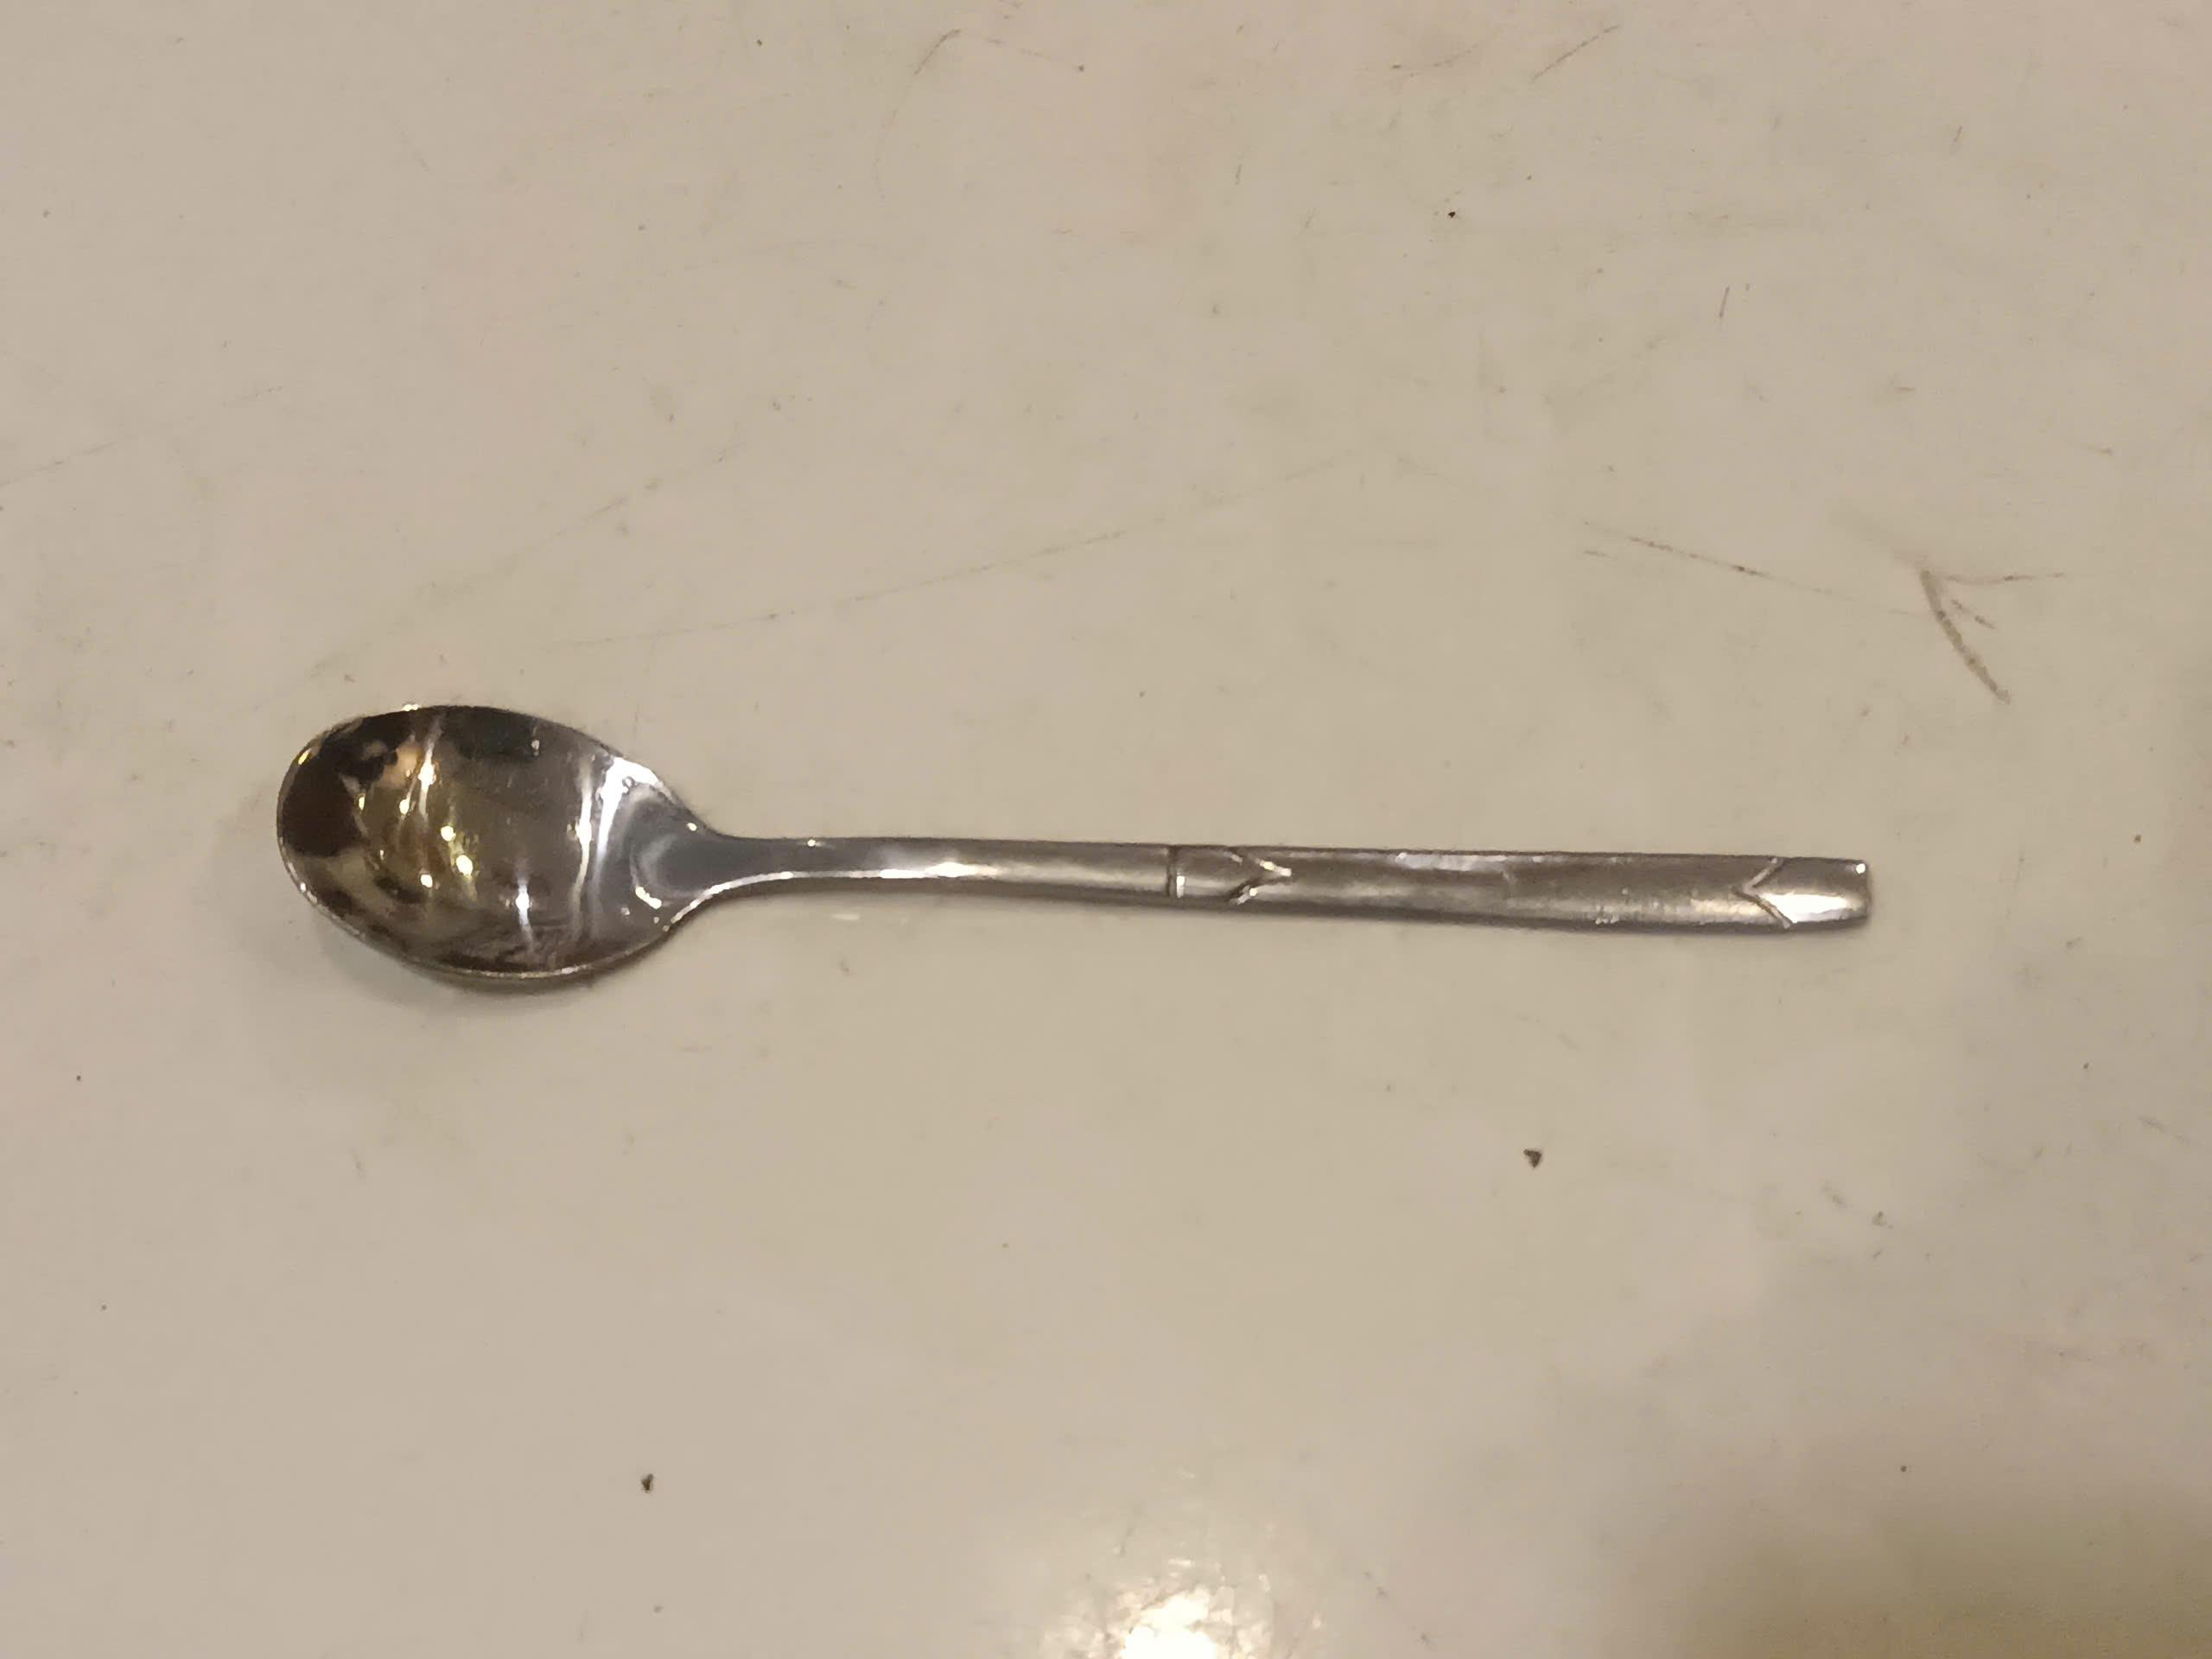Vo co: (282, 704, 1869, 997)
